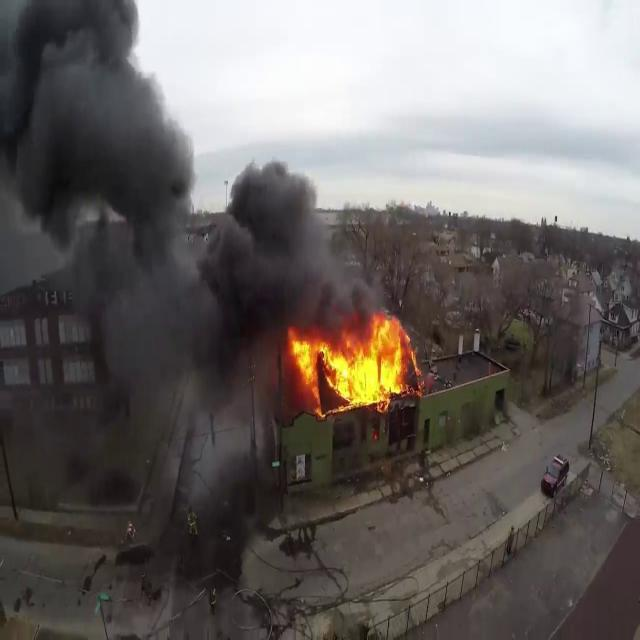Fire: (286, 311, 420, 414)
Smoke: (0, 0, 348, 475)
